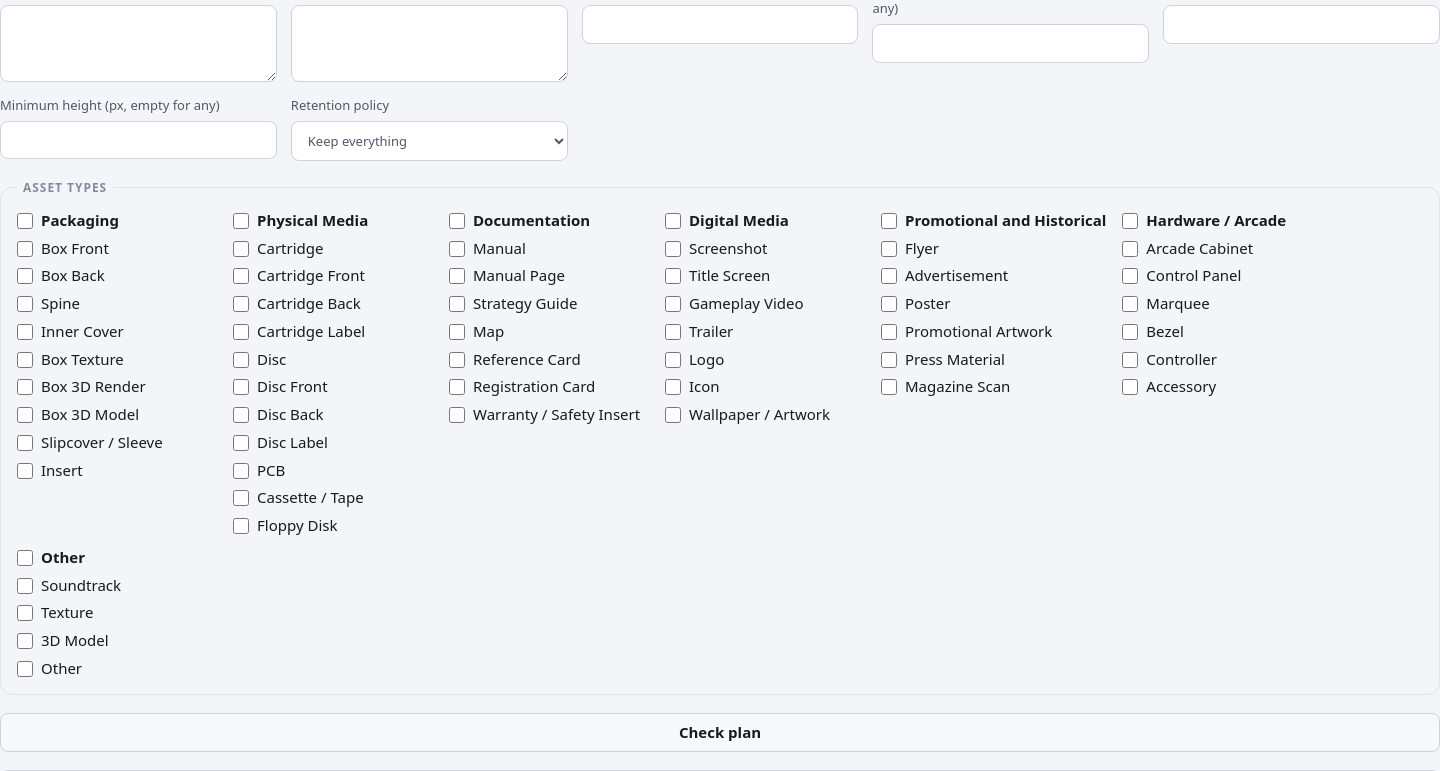
Test: AcquireView › shows why a plan is refused
(page scrolled)
Step 1. Click the button "Check plan" → click(720, 733), box [0,713,1439,752]
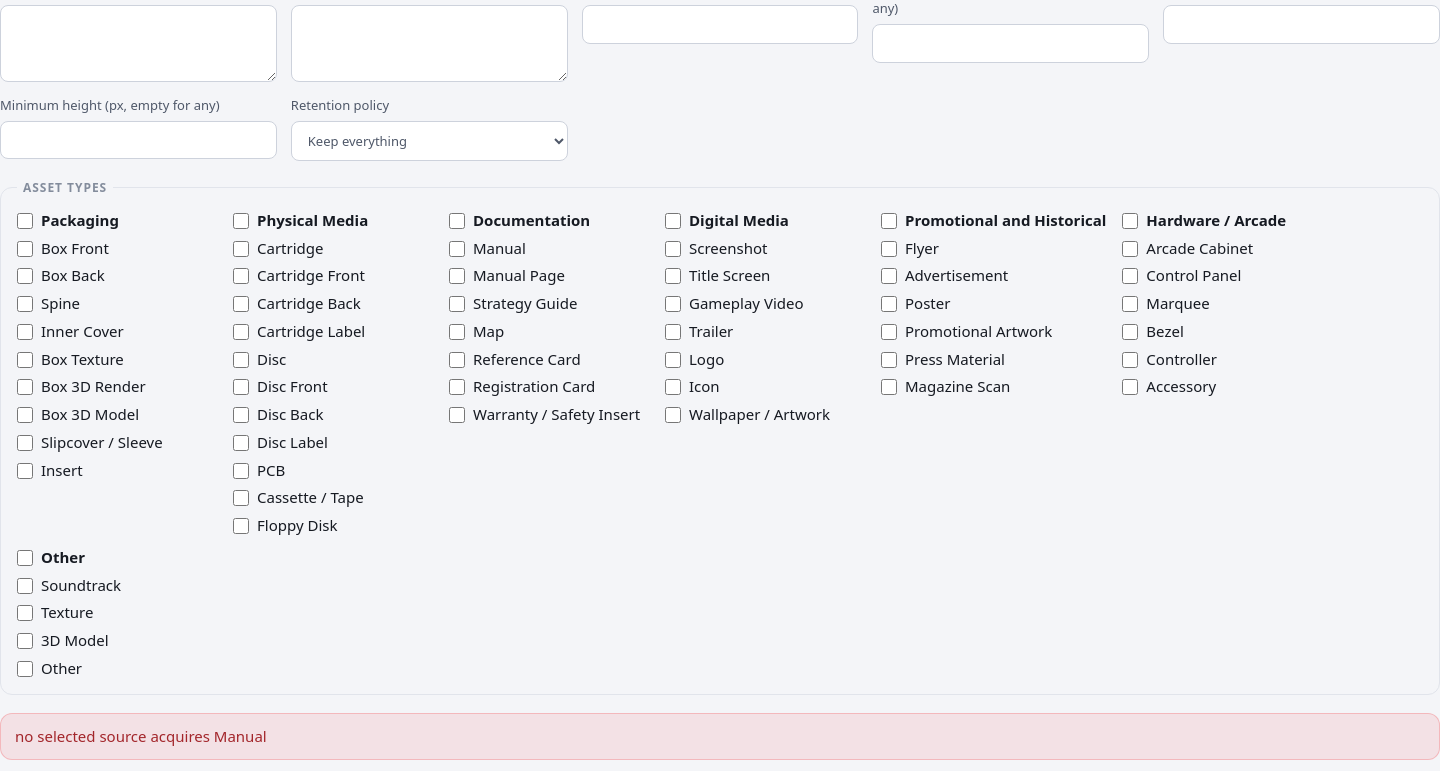
Now the text "no selected source acquires Manual" is shown, box [0,713,1439,760]
